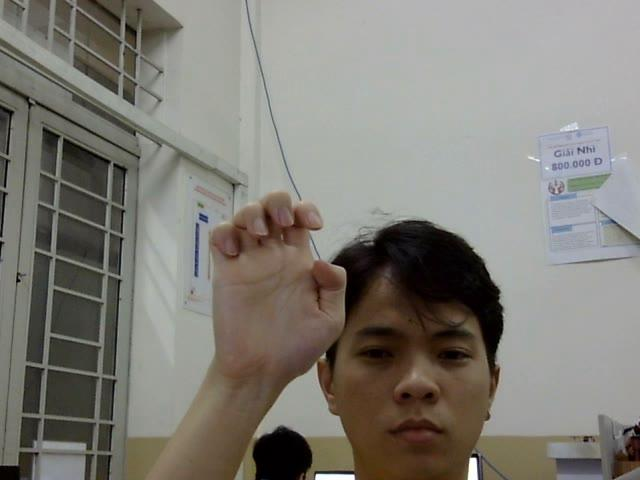E: (207, 190, 345, 377)
